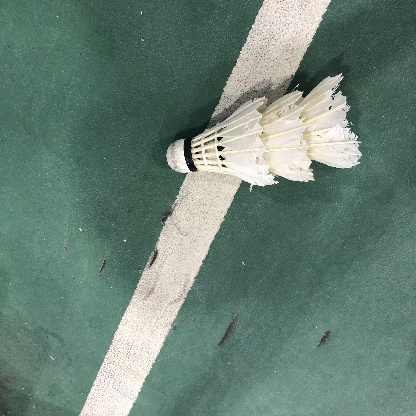ball_single: (167, 73, 362, 187)
